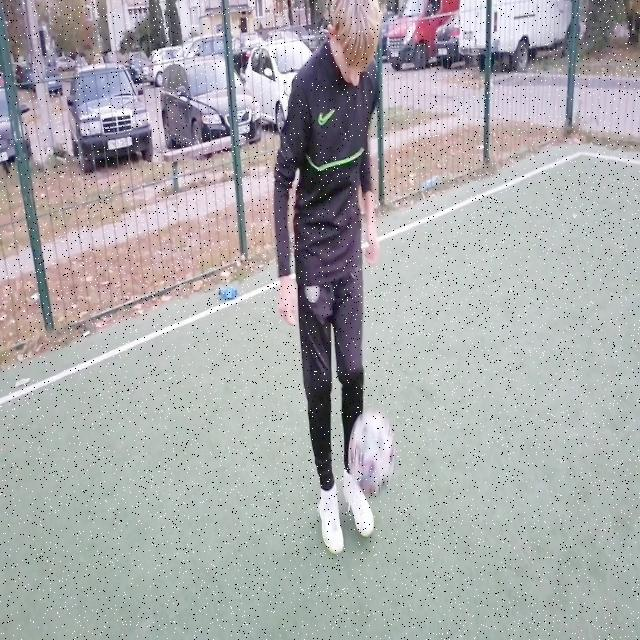ball: (348, 410, 394, 493)
